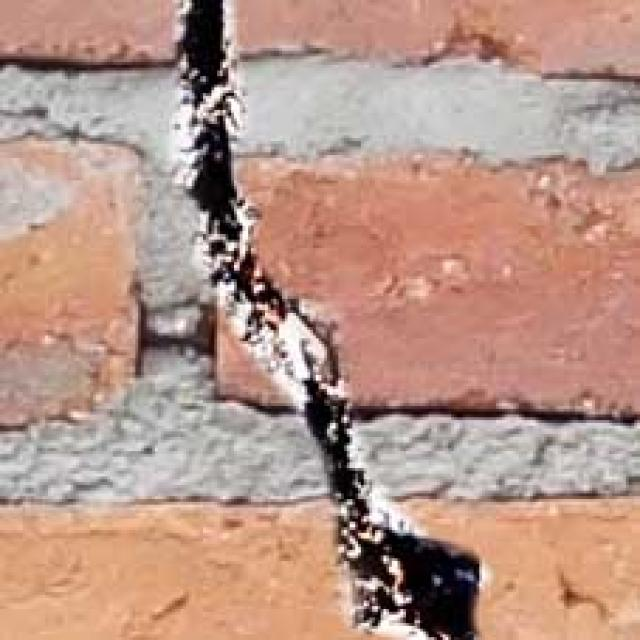Crack: (145, 0, 543, 640)
